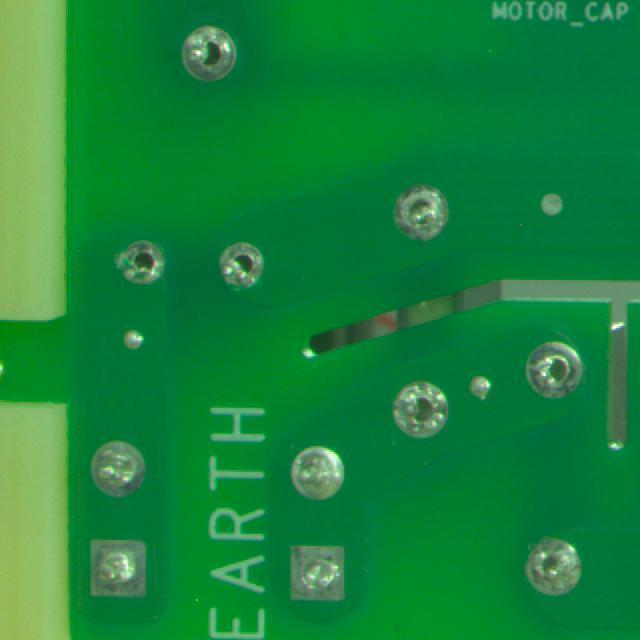Insufficient solder: (279, 527, 360, 623), (80, 533, 158, 606), (521, 536, 593, 611), (83, 431, 153, 506), (378, 172, 455, 239), (386, 378, 452, 450), (175, 20, 245, 86), (518, 337, 585, 404), (289, 439, 347, 511), (204, 239, 272, 293), (111, 233, 164, 291)
